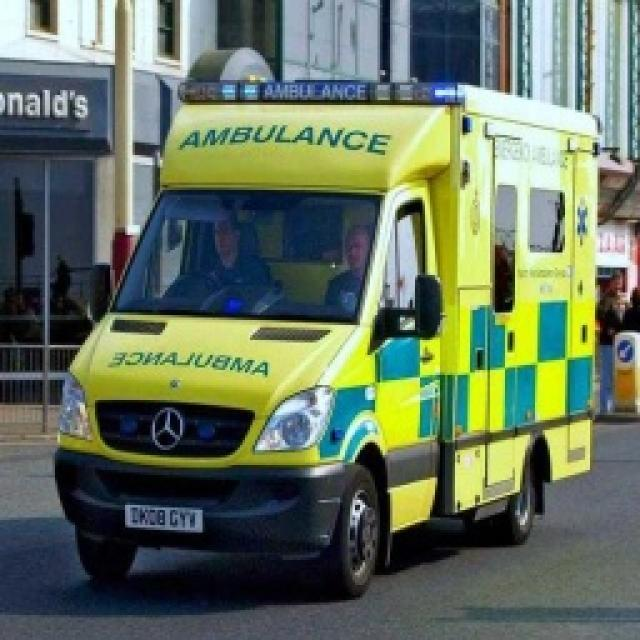emergency-vehicle: (55, 67, 611, 599)
